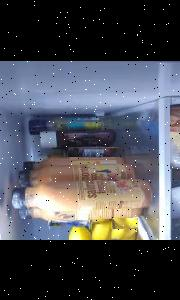Plátano: (112, 217, 138, 240), (92, 220, 112, 240), (111, 228, 138, 240), (70, 225, 90, 240)
Salsa de tomate: (68, 146, 119, 156)
Yogur: (49, 219, 89, 225)
